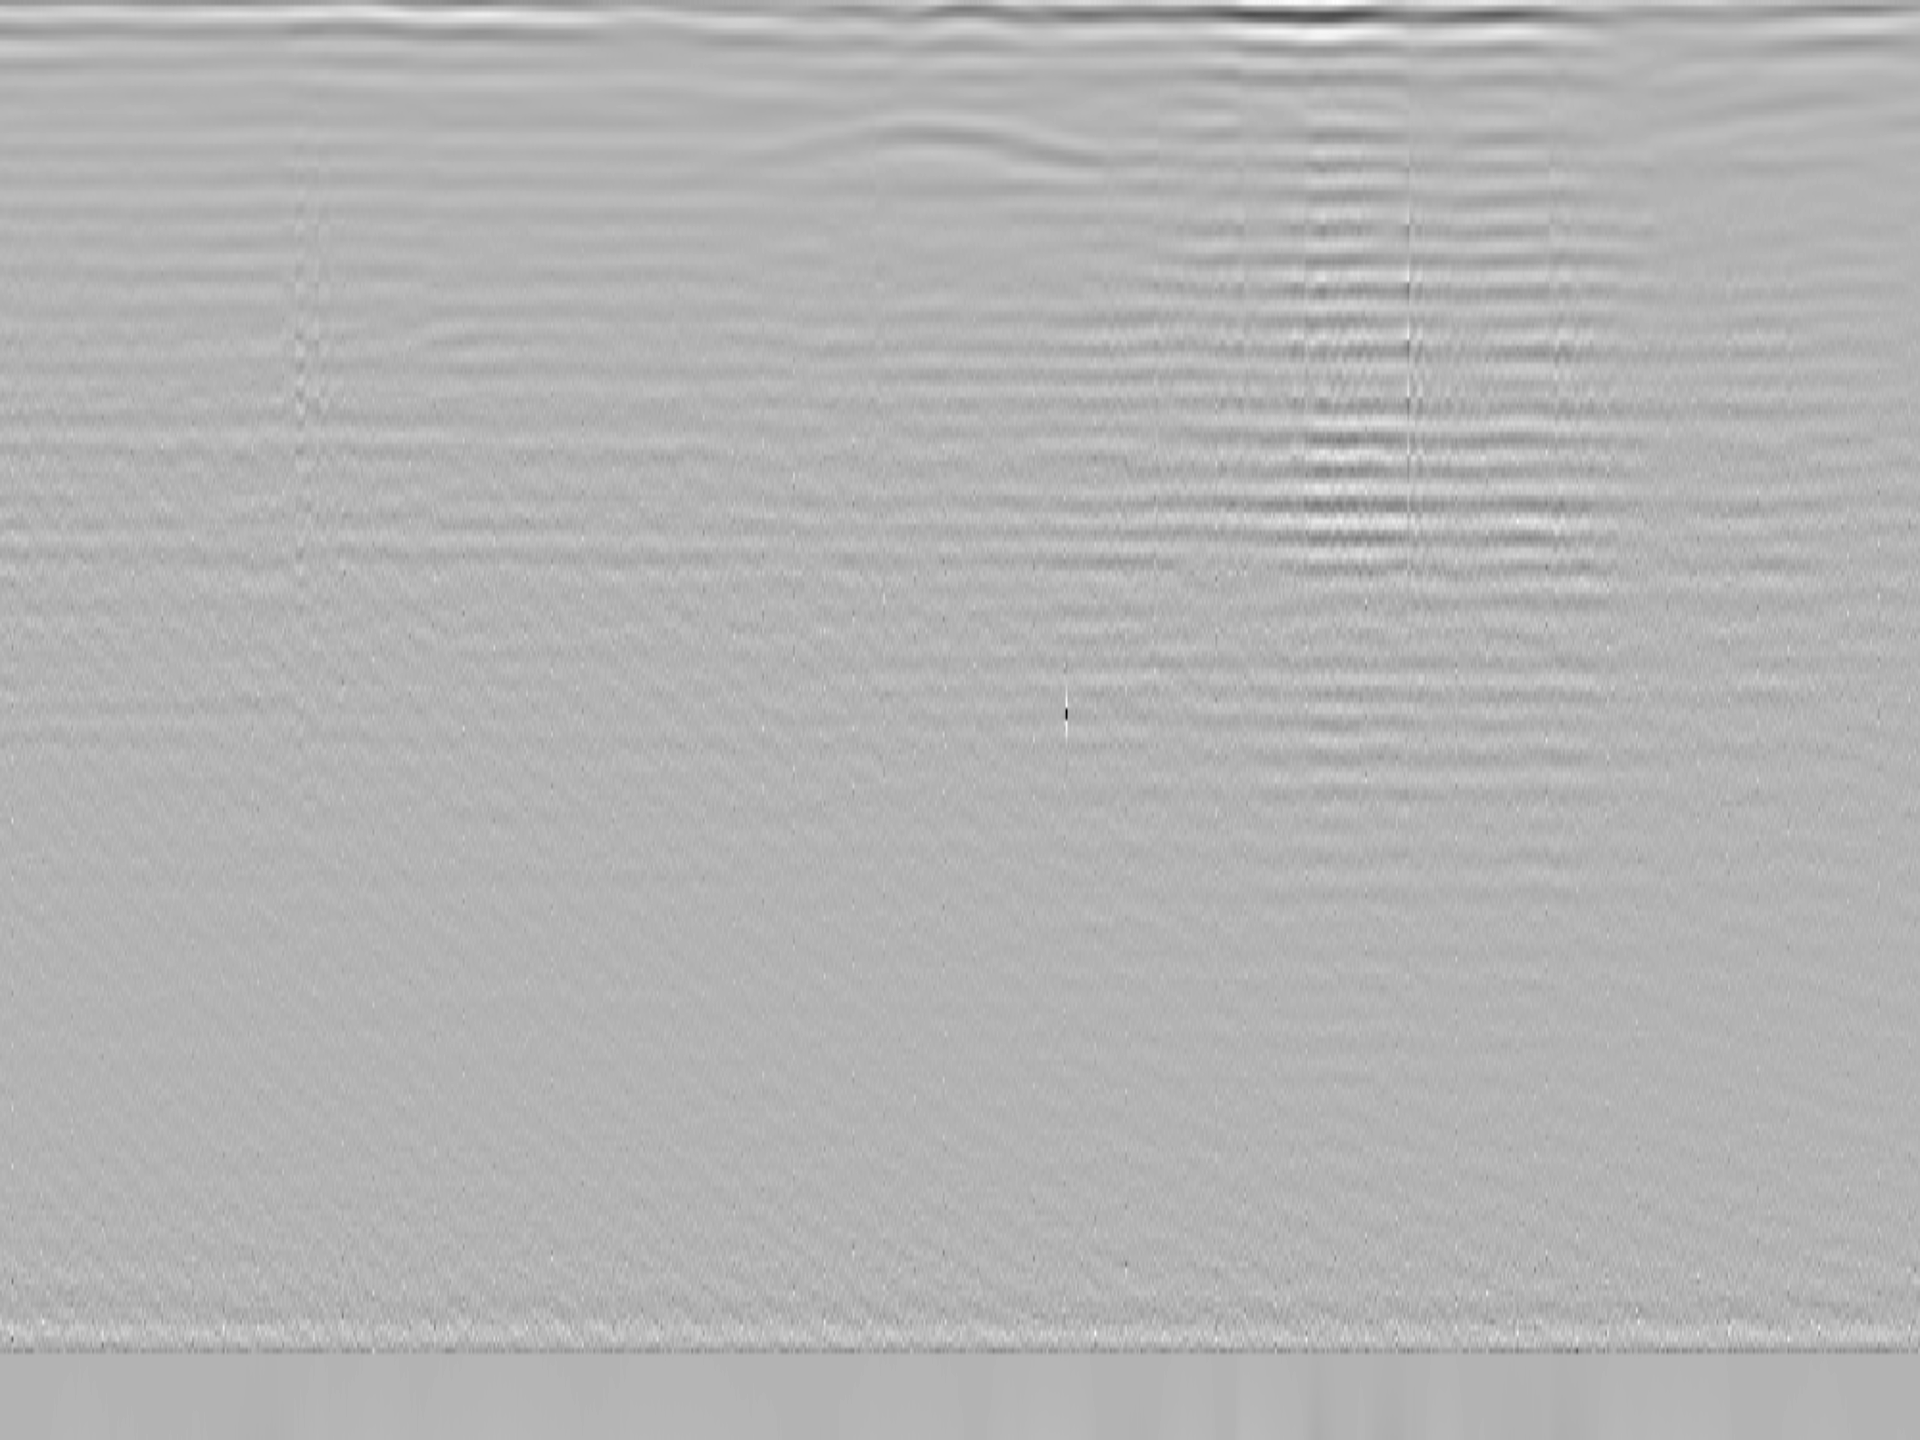Tunnel: (688, 112, 1132, 188)
